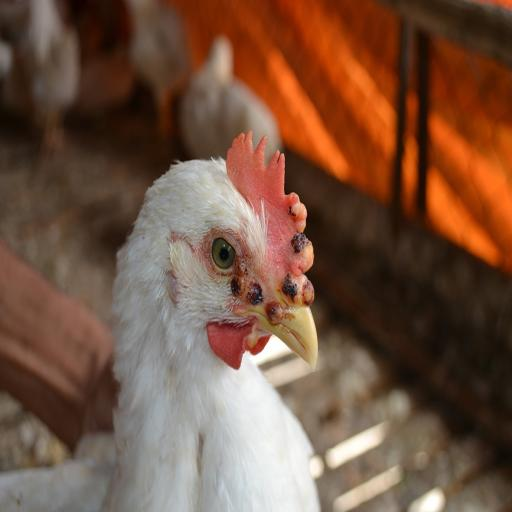disease: (224, 198, 323, 377)
